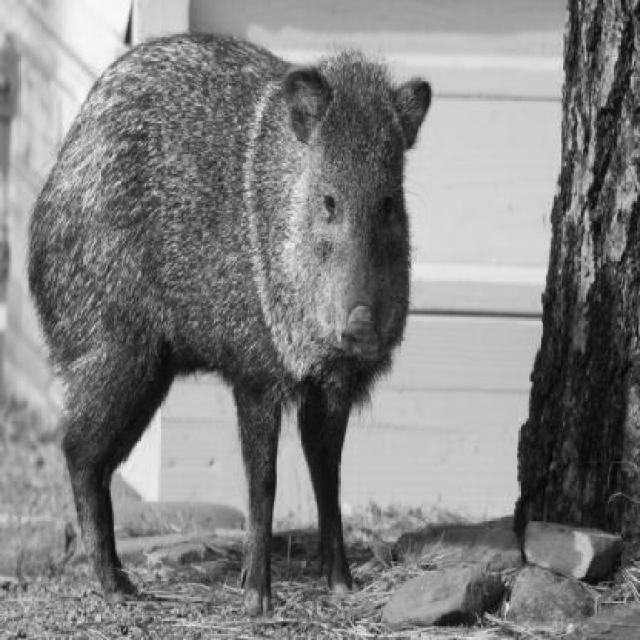Boar: (22, 39, 435, 618)
